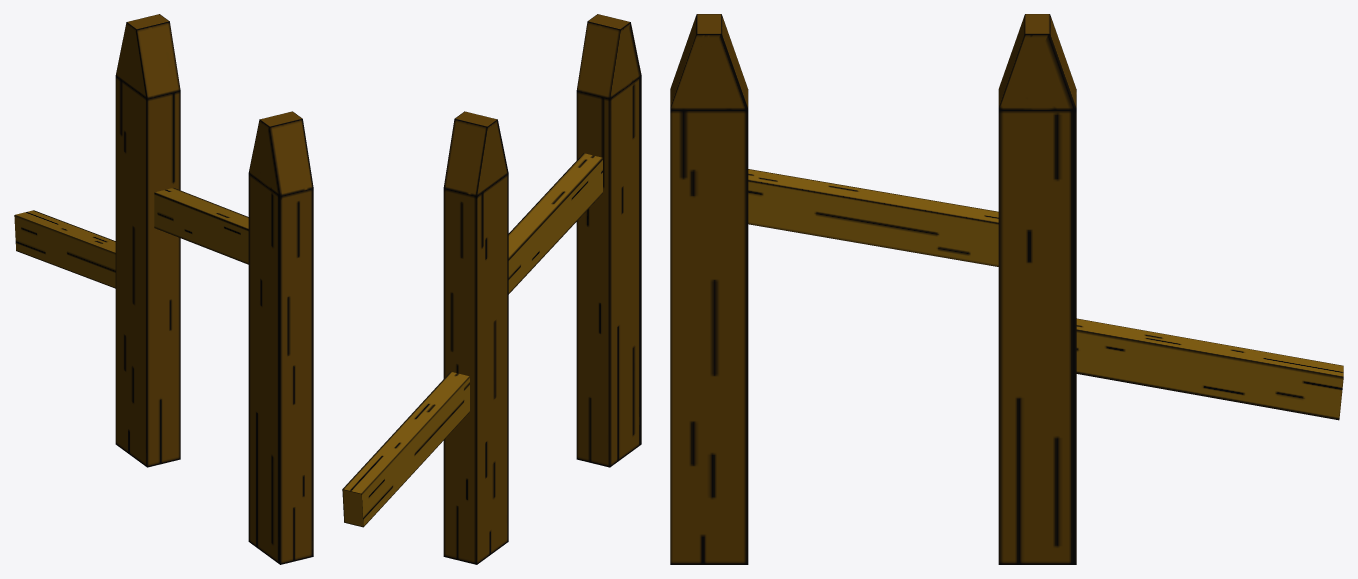
File: Fence2_1_Part.glb
3 views of the same model, side by side, from view 1: azimuth 30°, elevation 25°; view 2: azimuth 150°, elevation 25°; view 3: azimuth 270°, elevation 25° (orthographic). The views are drawn at different scales.
Visible parts, largest first — view 1: Fence2_1_Part; view 2: Fence2_1_Part; view 3: Fence2_1_Part.
Part boxes in pixels (bbox=[...]): Fence2_1_Part: bbox=[14, 14, 313, 564]; Fence2_1_Part: bbox=[342, 14, 641, 564]; Fence2_1_Part: bbox=[670, 14, 1343, 564].
Size of the model in its own units: 0.1443 by 1.78 by 2.05.
Materials: 1 (1 with a texture image).
